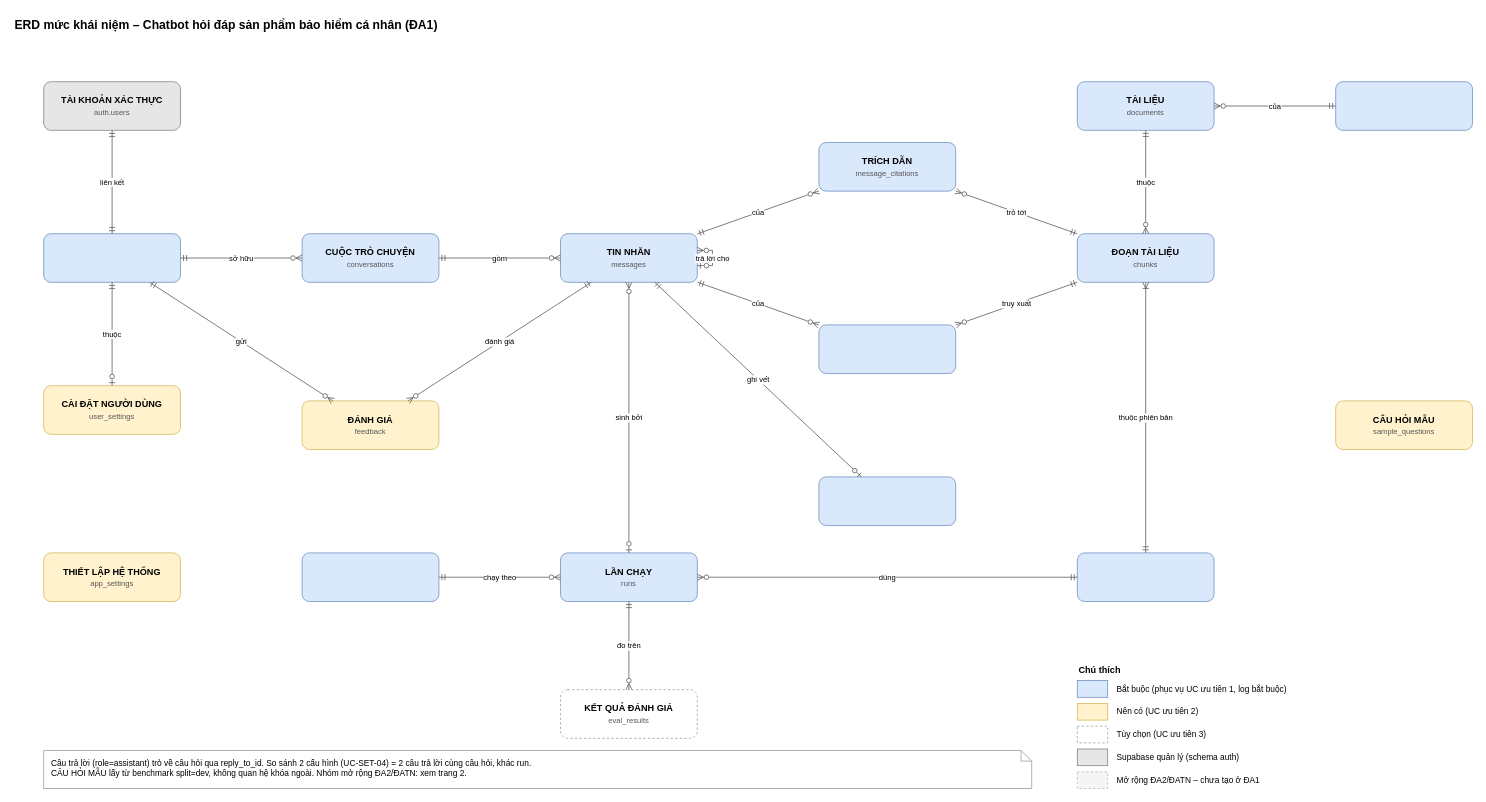
The diagram is 1486 pixels wide and 802 high, and some of its shapes have lost their labels. The centre of each missing label's shape, as x and y in pixels:
"CẤU HÌNH PIPELINE pipeline_configs" goes at point 370,577.
"KẾT QUẢ TRUY XUẤT retrieval_logs" goes at point 887,349.
"NGƯỜI DÙNG profiles" goes at point 111,257.
"PHIÊN BẢN DỮ LIỆU data_versions" goes at point 1145,577.
"SẢN PHẨM products" goes at point 1403,105.
"VẾT XỬ LÝ traces" goes at point 887,501.
